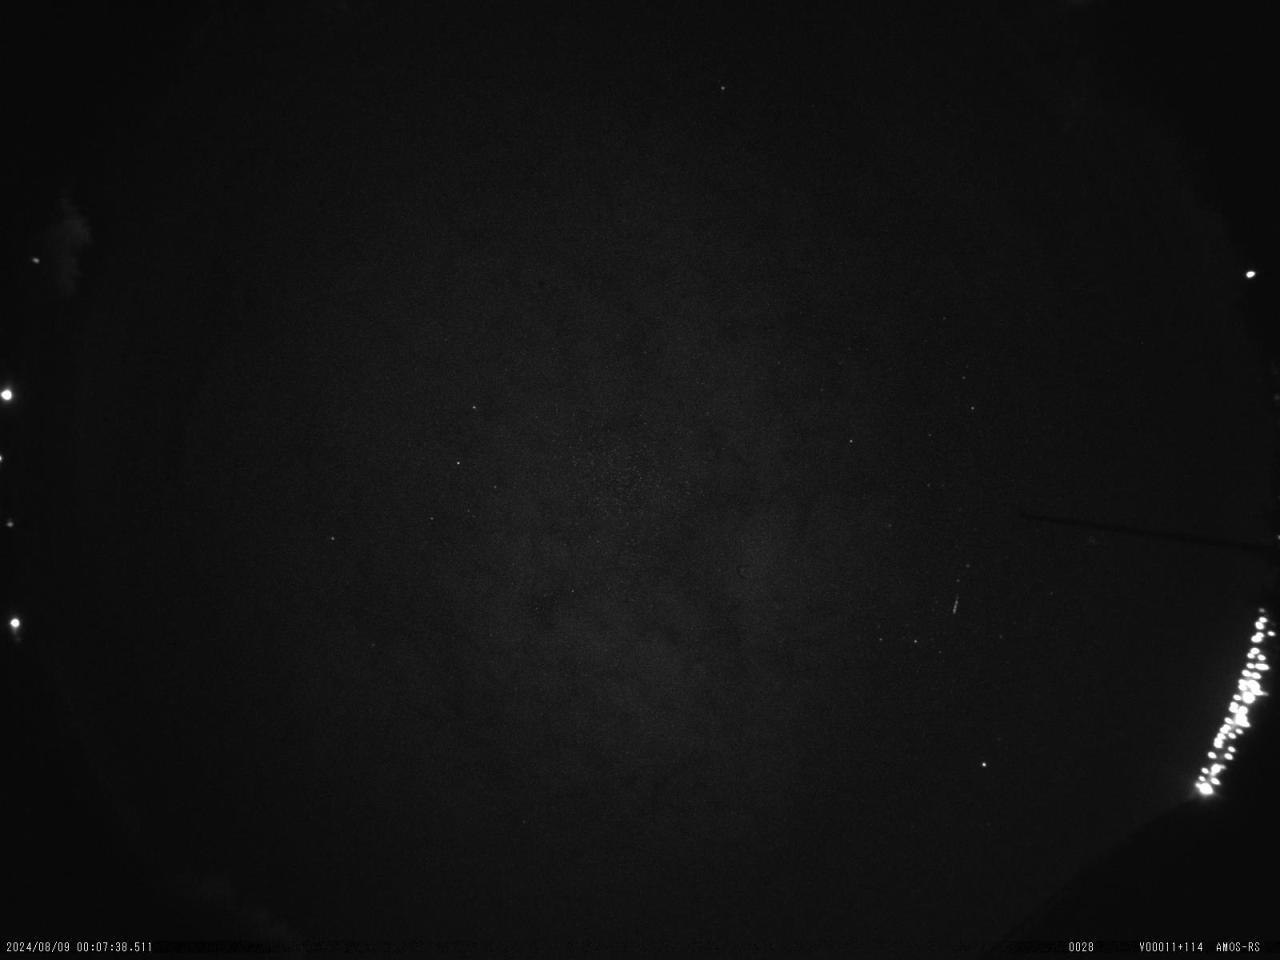Meteor: (950, 590, 961, 620)
